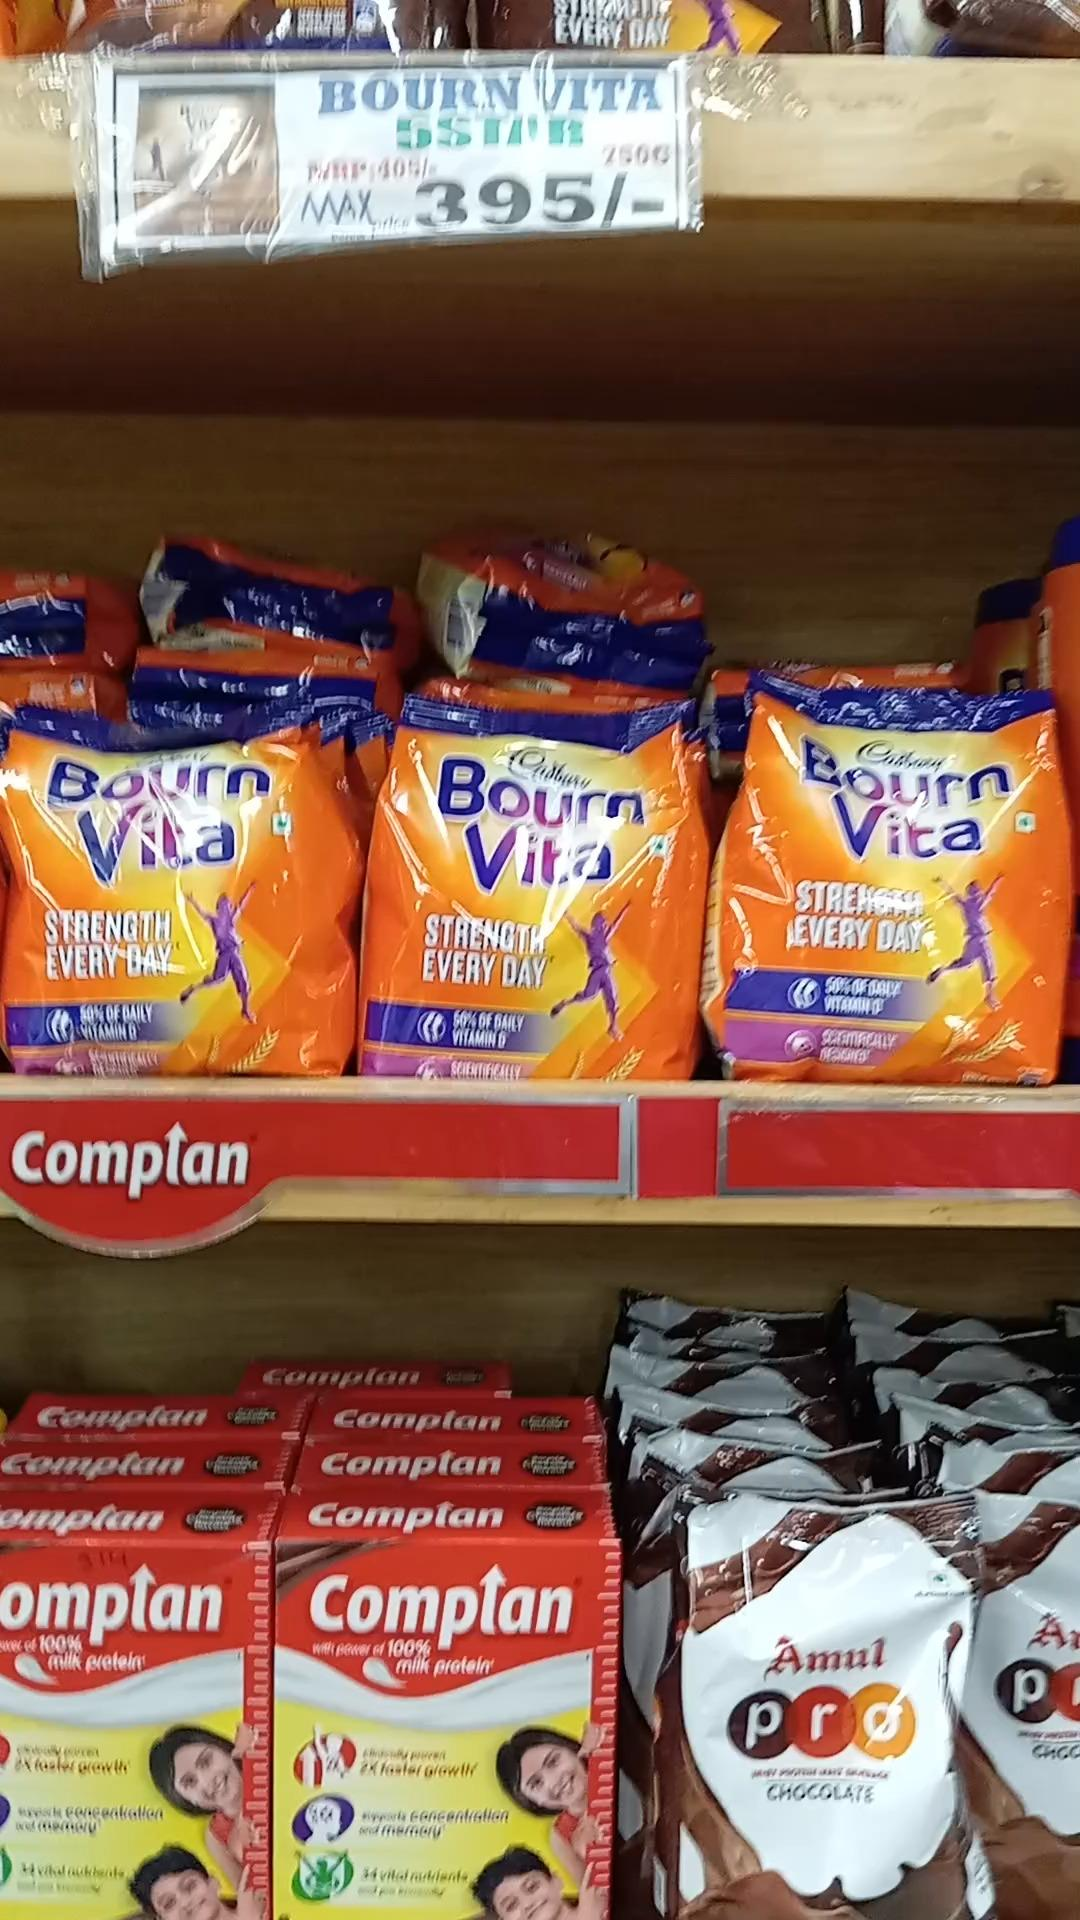BOURN_VITA_500_G_POUCH: (5, 683, 342, 1076), (737, 675, 1063, 1073), (356, 724, 694, 1079)
COMPLAN_CHOCOLATE_500_GMS_PACK: (280, 1545, 622, 1920), (0, 1540, 278, 1919)
